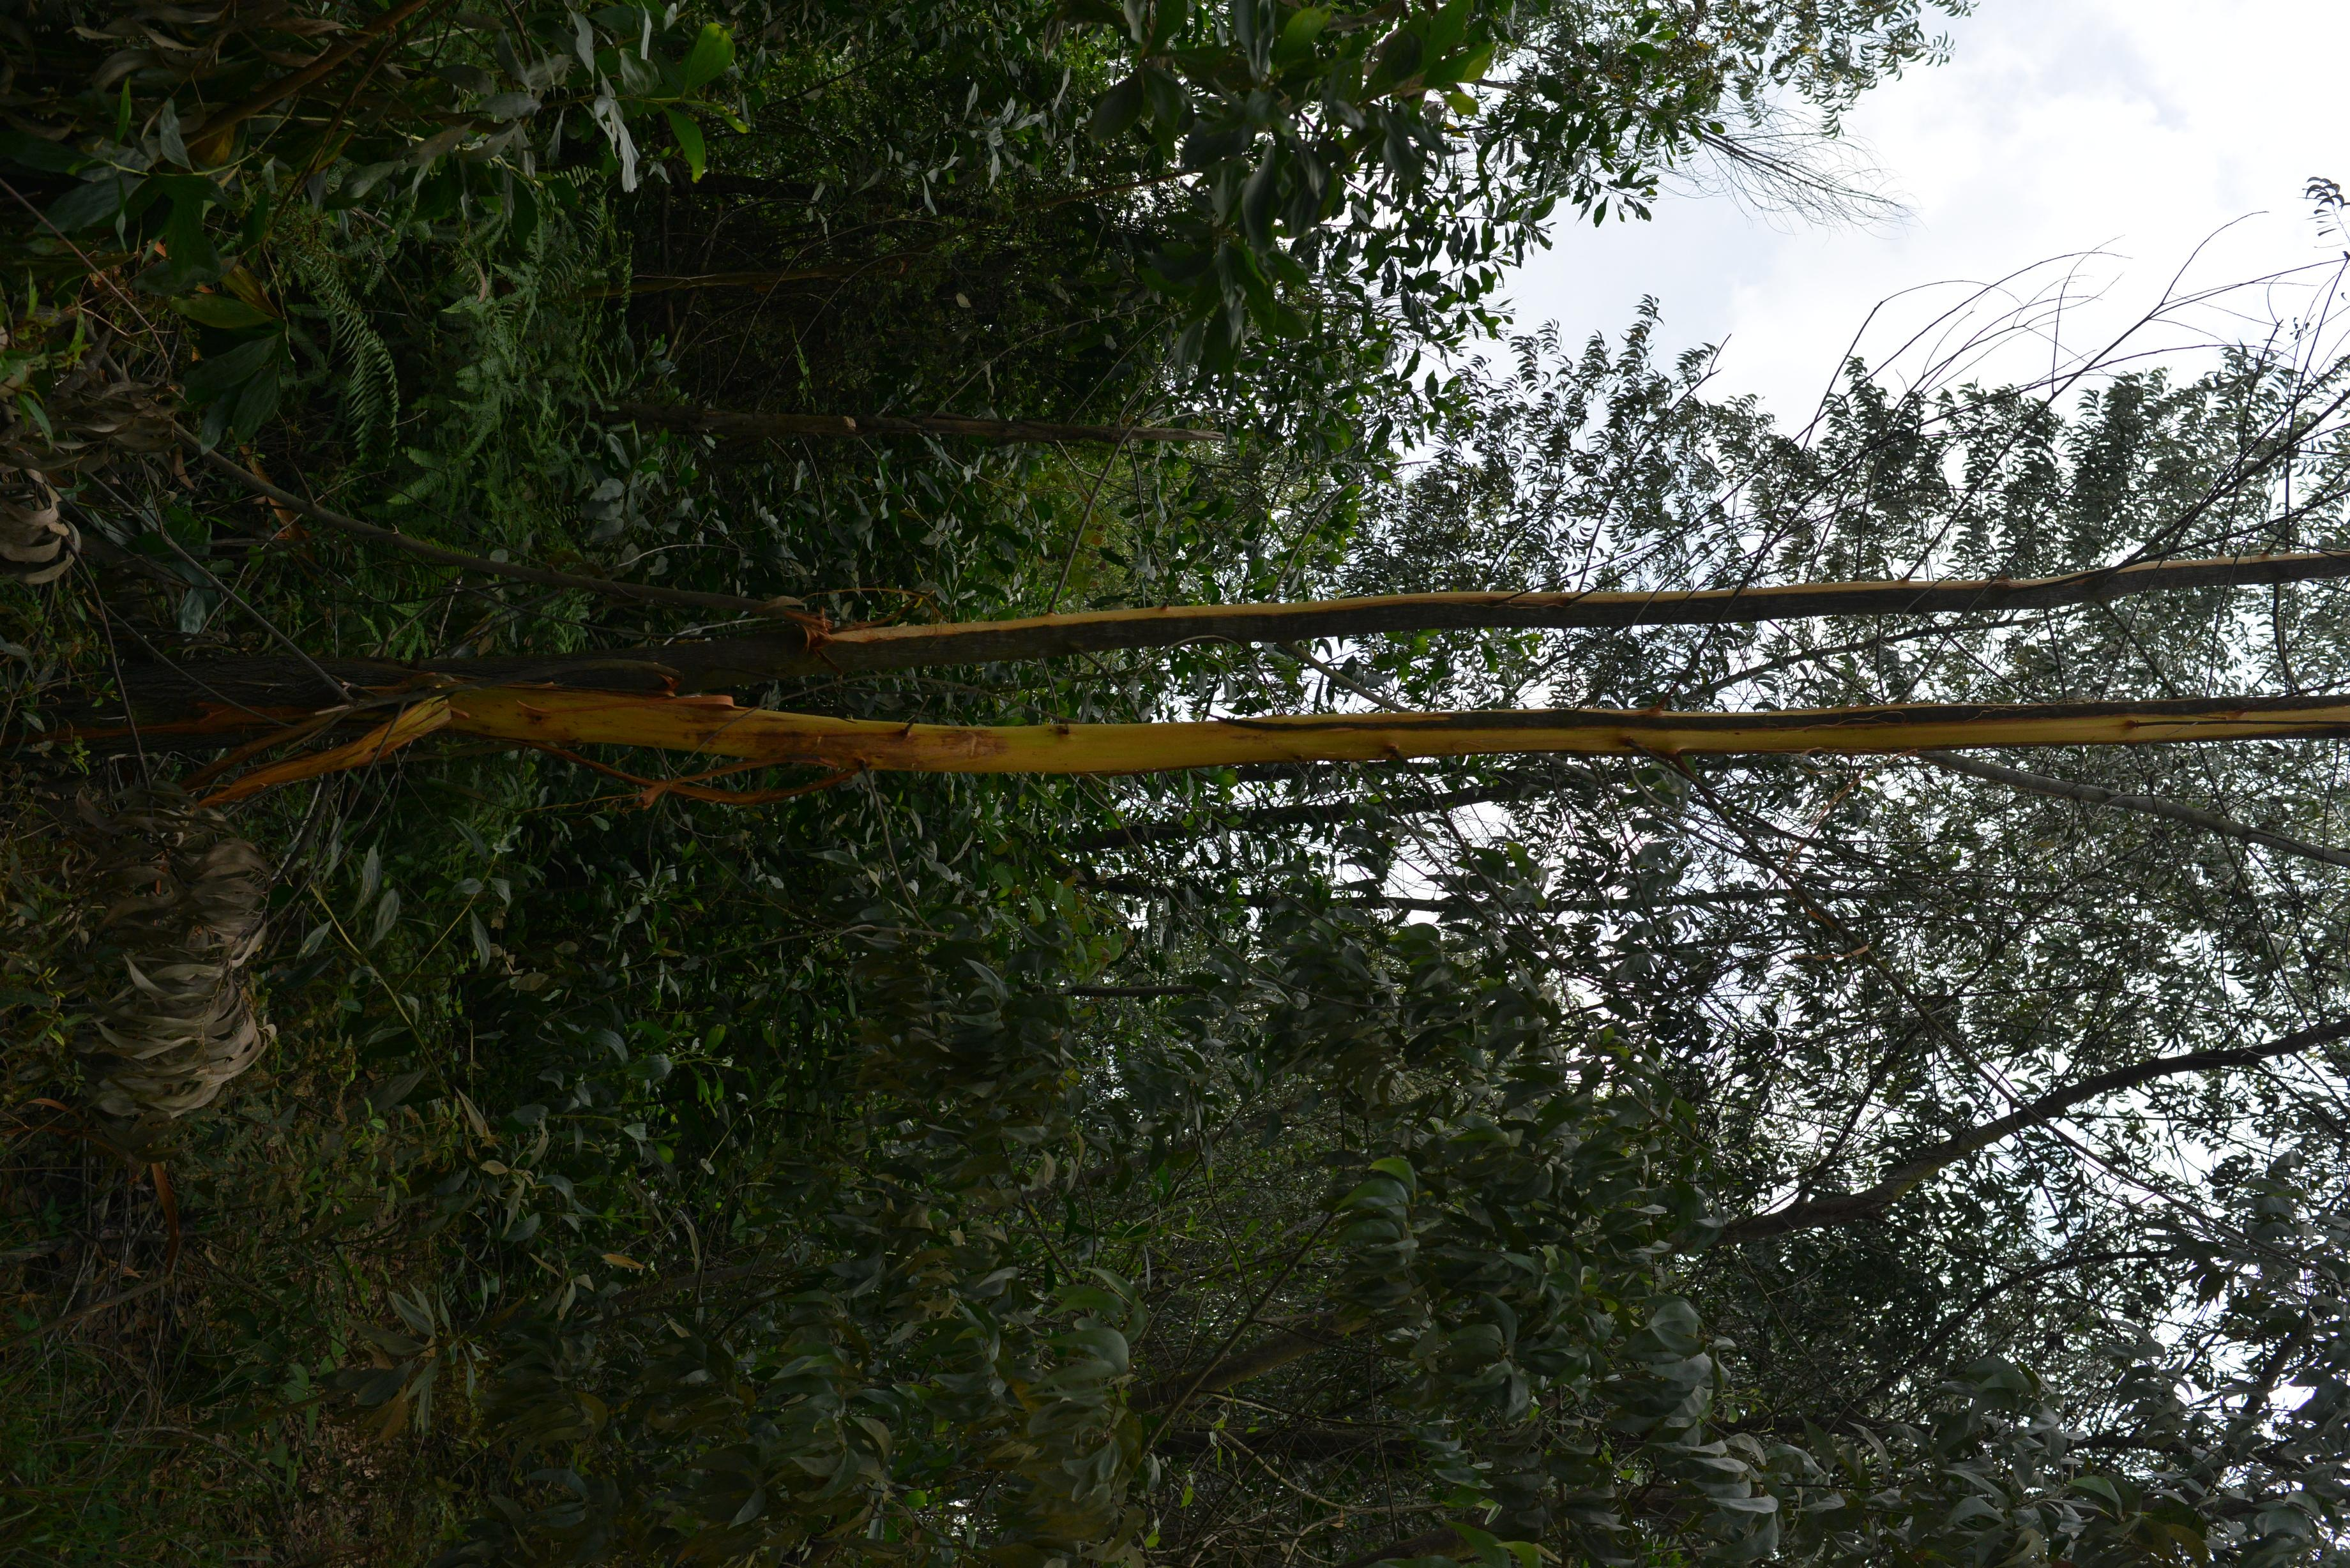Mammals Attack: (250, 661, 2350, 789), (824, 534, 2350, 667)
